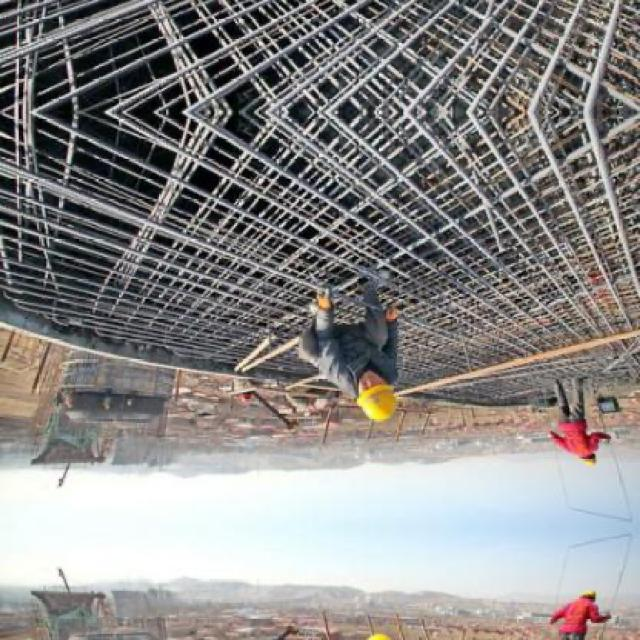con casco: (320, 362, 424, 436), (573, 439, 612, 470)
